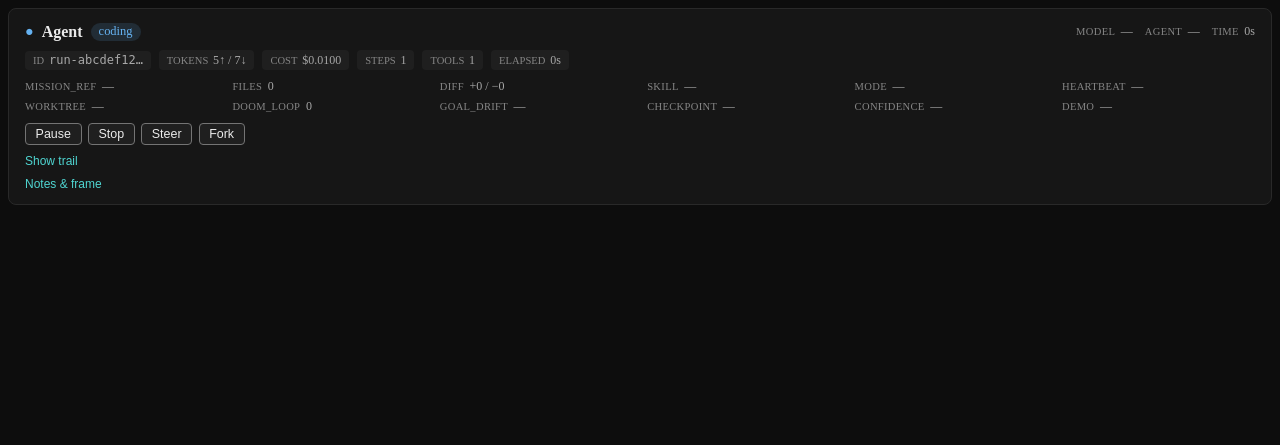
Test case: AgentCard › reveals the task notes and sandbox frame panels (H-05/H-08)
Click the button "Notes & frame" at {"x": 63, "y": 184}, box [25,176,102,190]
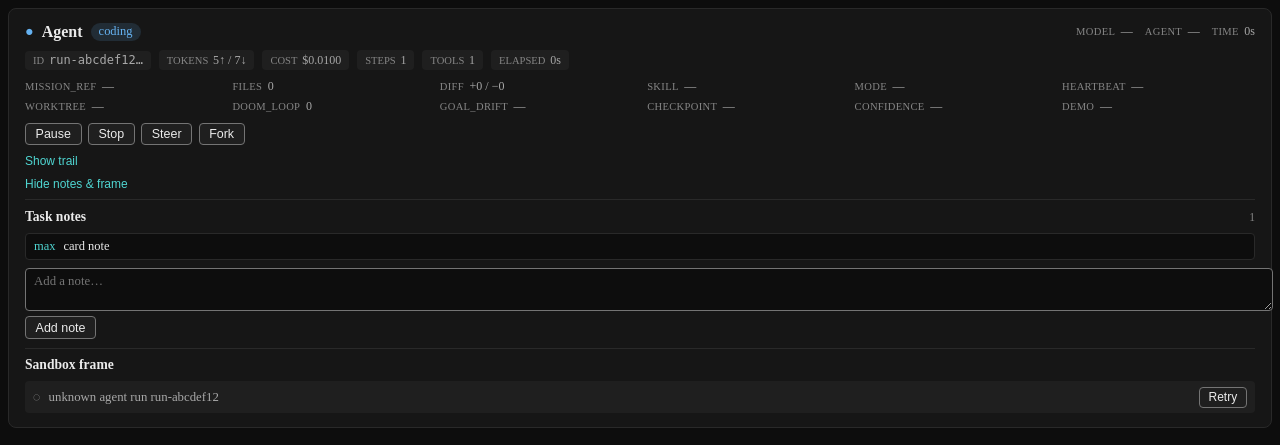
expect the text "Task notes" is shown: met, box [25,209,86,225]
expect the text "card note" is shown: met, box [64,239,110,254]
expect the text "Sandbox frame" is shown: met, box [25,358,114,374]
